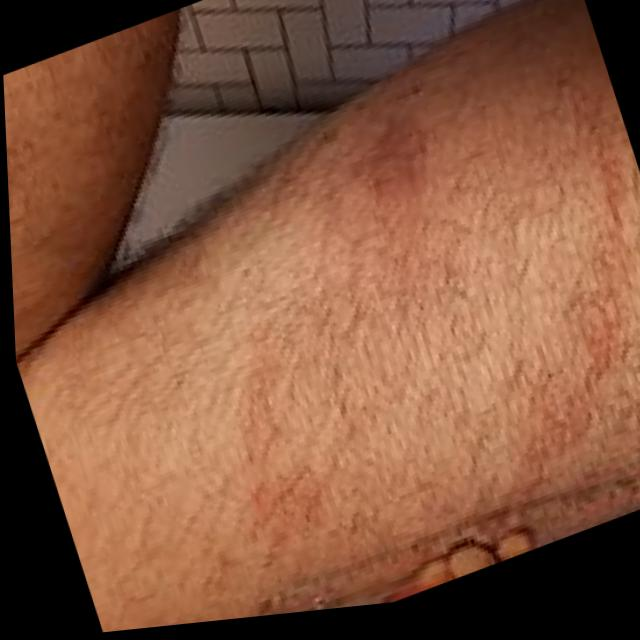Erythema migrans: (101, 134, 640, 566)
